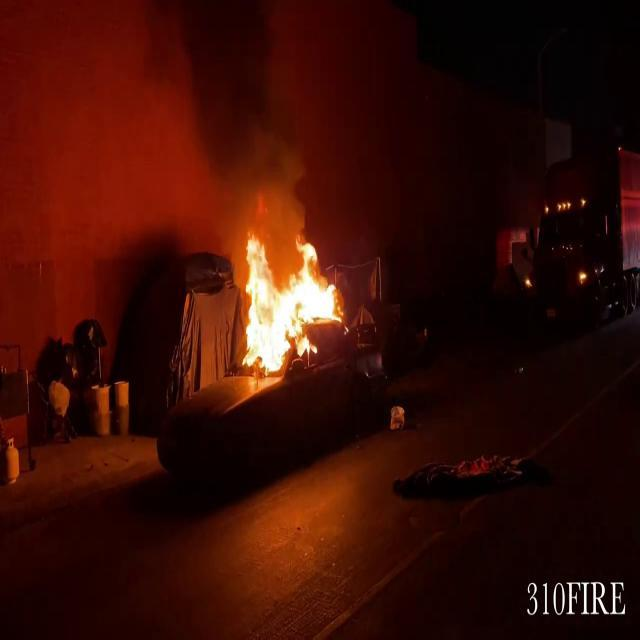Fire: (231, 226, 353, 376)
Smoke: (146, 0, 316, 234)
